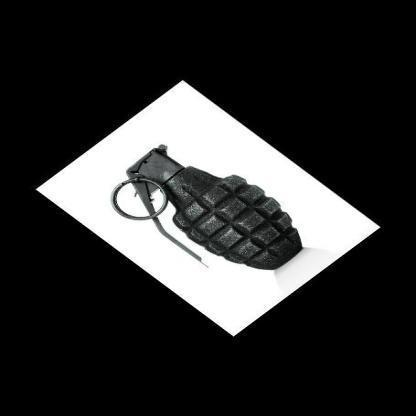Grenade: (110, 144, 302, 270)
